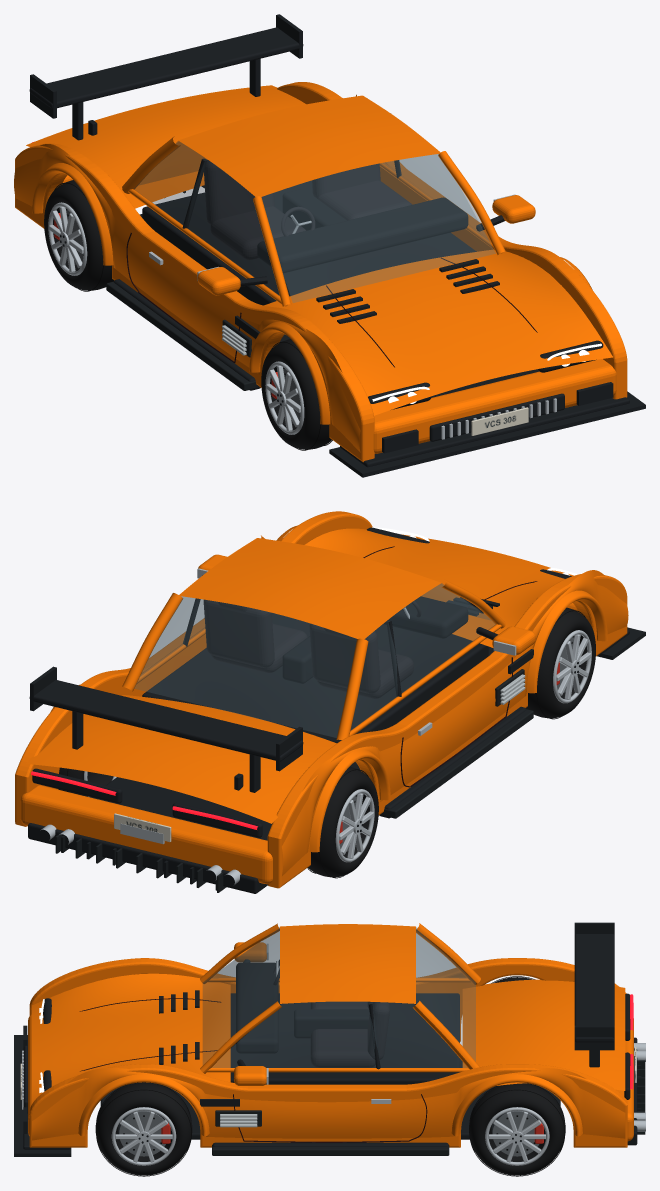
File: vortex-rs-detailed-v3.glb
3 renders of one model, top to bottom at view 1: azimuth 30°, elevation 25°; view 2: azimuth 150°, elevation 25°; view 3: azimuth 270°, elevation 25°, orthographic. The views are drawn at different scales.
Visible parts, largest first — view 1: Ember_Orange_Clearcoat, Graphite_Trim (×2), Smoked_Automotive_Glass, Charcoal_Leather, Performance_Rubber (×2), Forged_Aluminium (×3), Registration_Plate, Panel_Shut_Lines; view 2: Ember_Orange_Clearcoat, Graphite_Trim (×2), Smoked_Automotive_Glass, Charcoal_Leather, Performance_Rubber (×2), Forged_Aluminium (×3), LED_Rear_Lights, Registration_Plate; view 3: Ember_Orange_Clearcoat, Graphite_Trim (×2), Smoked_Automotive_Glass, Performance_Rubber (×2), Forged_Aluminium (×3), Charcoal_Leather, Ventilated_Brake_Disc (×2), Tire_Grooves (×2), Panel_Shut_Lines, Polished_Aluminium.
Boxes of the visible parts, box(x1,y1,x2,y2) form: Ember_Orange_Clearcoat: box(14, 82, 627, 462); Graphite_Trim (×2): box(29, 14, 645, 477); Smoked_Automotive_Glass: box(134, 141, 495, 302); Charcoal_Leather: box(204, 160, 411, 259); Performance_Rubber (×2): box(44, 180, 331, 449); Forged_Aluminium (×3): box(48, 194, 556, 439); Registration_Plate: box(471, 407, 528, 435); Panel_Shut_Lines: box(126, 233, 537, 367); Ember_Orange_Clearcoat: box(15, 511, 628, 888); Graphite_Trim (×2): box(28, 527, 645, 893); Smoked_Automotive_Glass: box(134, 583, 495, 737); Charcoal_Leather: box(203, 599, 421, 698); Performance_Rubber (×2): box(308, 607, 595, 877); Forged_Aluminium (×3): box(40, 568, 591, 884); LED_Rear_Lights: box(31, 771, 257, 829); Registration_Plate: box(114, 813, 171, 841); Ember_Orange_Clearcoat: box(28, 923, 633, 1147); Graphite_Trim (×2): box(14, 922, 645, 1156); Smoked_Automotive_Glass: box(203, 927, 475, 1067); Performance_Rubber (×2): box(95, 1082, 565, 1175); Forged_Aluminium (×3): box(22, 944, 645, 1165); Charcoal_Leather: box(273, 959, 390, 1067); Ventilated_Brake_Disc (×2): box(119, 1110, 539, 1156); Tire_Grooves (×2): box(96, 1082, 565, 1176); Panel_Shut_Lines: box(79, 998, 427, 1142); Polished_Aluminium: box(220, 1114, 257, 1127).
Size of the model in its own units: 2.41 by 1.35 by 4.74.
Materials: 16 (2 with a texture image).
